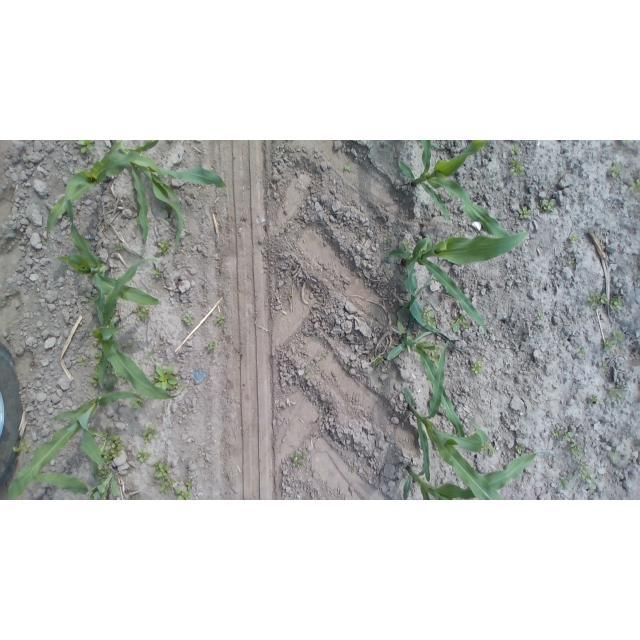Maize: (385, 230, 529, 352), (8, 392, 147, 500), (110, 141, 232, 258), (93, 258, 186, 400), (55, 194, 162, 306), (47, 142, 166, 242), (405, 387, 504, 500), (398, 141, 510, 239), (387, 331, 466, 437), (402, 450, 554, 500), (35, 440, 119, 500)
Weeds: (91, 425, 122, 455), (153, 365, 179, 390), (577, 459, 596, 489), (103, 438, 123, 465), (452, 311, 473, 334), (585, 290, 607, 310), (605, 329, 624, 352), (152, 458, 172, 479), (290, 451, 309, 470), (143, 423, 158, 446), (553, 426, 574, 442), (423, 306, 438, 326), (132, 306, 149, 323), (12, 438, 31, 453), (536, 199, 556, 213), (609, 296, 625, 313), (508, 159, 524, 176), (481, 441, 497, 457), (156, 238, 171, 255), (77, 141, 96, 154), (567, 442, 583, 457), (609, 387, 624, 402), (137, 449, 153, 463), (611, 161, 624, 178), (471, 360, 485, 375), (587, 394, 601, 408), (176, 489, 193, 500), (182, 312, 195, 326), (131, 397, 145, 410), (371, 355, 385, 368), (630, 178, 640, 195), (398, 238, 411, 251), (152, 268, 164, 281), (214, 314, 227, 326), (568, 233, 580, 246), (519, 206, 532, 218), (91, 372, 99, 387), (559, 478, 569, 490), (432, 350, 441, 363), (77, 357, 88, 367), (611, 452, 621, 463), (512, 144, 521, 156), (95, 350, 102, 365), (185, 478, 193, 491), (114, 242, 124, 252), (515, 444, 525, 454), (147, 347, 156, 358), (208, 341, 217, 351), (160, 482, 169, 492), (577, 347, 586, 357), (602, 363, 611, 372), (343, 163, 351, 173), (536, 313, 544, 322), (316, 403, 325, 411), (121, 343, 131, 350), (348, 466, 356, 474), (569, 256, 576, 265), (383, 237, 391, 244), (549, 182, 556, 190), (320, 353, 328, 359), (288, 291, 294, 299), (107, 364, 111, 374), (121, 380, 129, 385), (134, 219, 140, 225), (113, 371, 119, 377), (621, 141, 631, 144), (131, 496, 136, 500)
